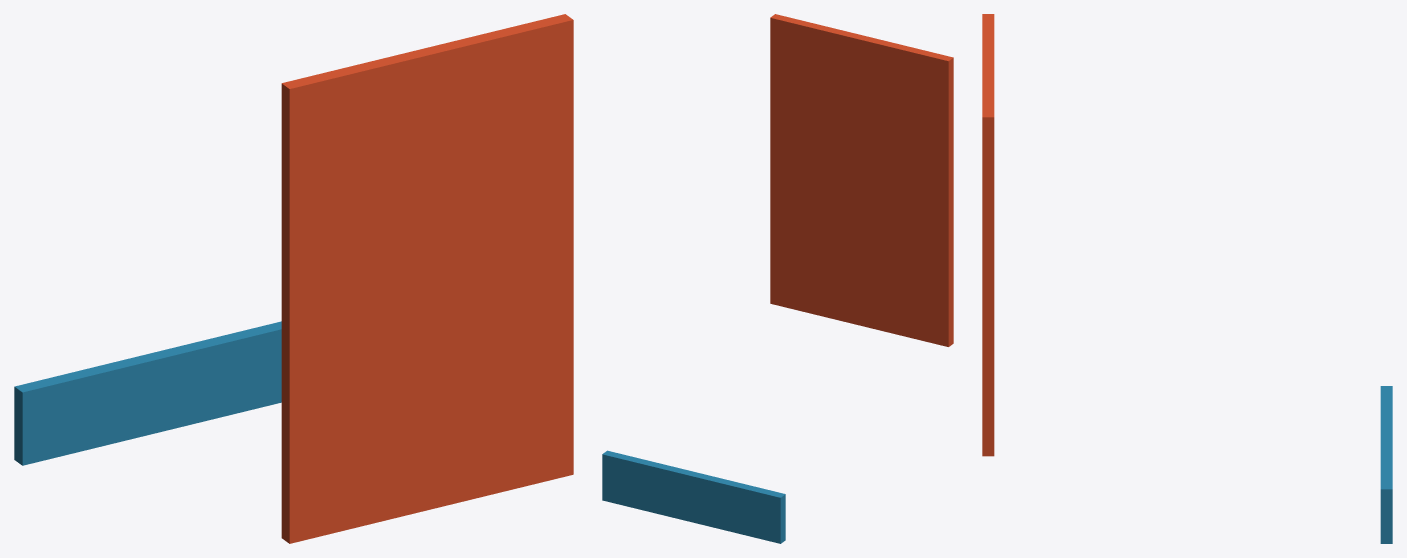
File: membrane_filter_pressure.glb
3 renders of one model, left to right at view 1: azimuth 30°, elevation 25°; view 2: azimuth 150°, elevation 25°; view 3: azimuth 270°, elevation 25°, orthographic. The views are drawn at different scales.
Visible parts, largest first — view 1: press__front, press__back; view 2: press__front, press__back; view 3: press__front, press__back.
Boxes of the visible parts, x1,y1,x2,y2 form: press__front: (281, 14, 573, 543); press__back: (14, 321, 281, 465); press__front: (770, 14, 953, 346); press__back: (602, 450, 785, 543); press__front: (982, 14, 994, 456); press__back: (1380, 386, 1392, 543).
Bounding box in the file's own units: 0.405 × 0.78 × 0.68.
